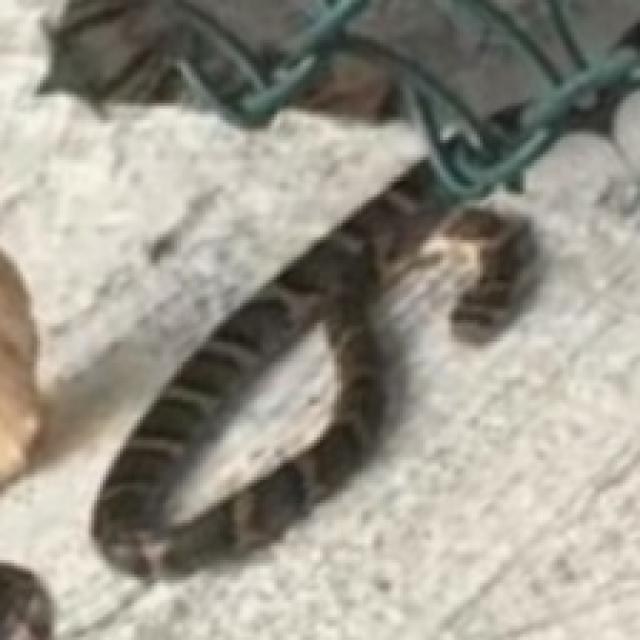king cobra: (57, 0, 637, 574), (91, 160, 454, 574), (451, 209, 534, 340)
